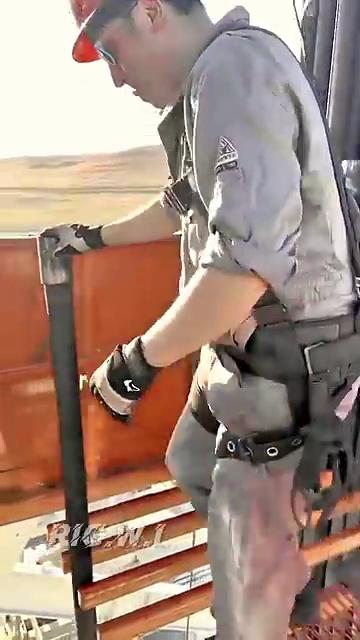glasses: (87, 35, 147, 85)
gloves: (90, 342, 162, 433), (45, 232, 117, 272)
helmet: (35, 0, 100, 66)
worker: (20, 5, 358, 638)
